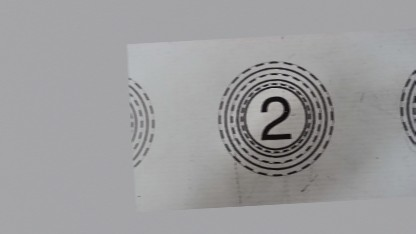2r: (212, 58, 337, 180)
